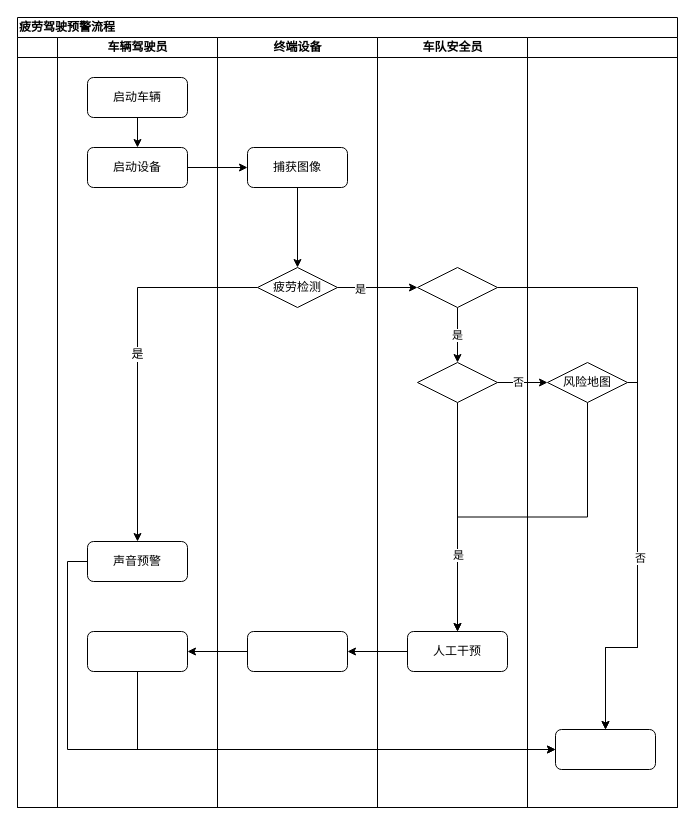
Image size: 695x825. Some labels were removed from this diagram. The centre of each missing label's shape, as x and y in pixels:
"二级预警" belongs at point (457, 287).
"结束" belongs at point (605, 749).
"语音对讲" belongs at point (137, 651).
"连麦" belongs at point (297, 651).
"风险报表" belongs at point (457, 382).
